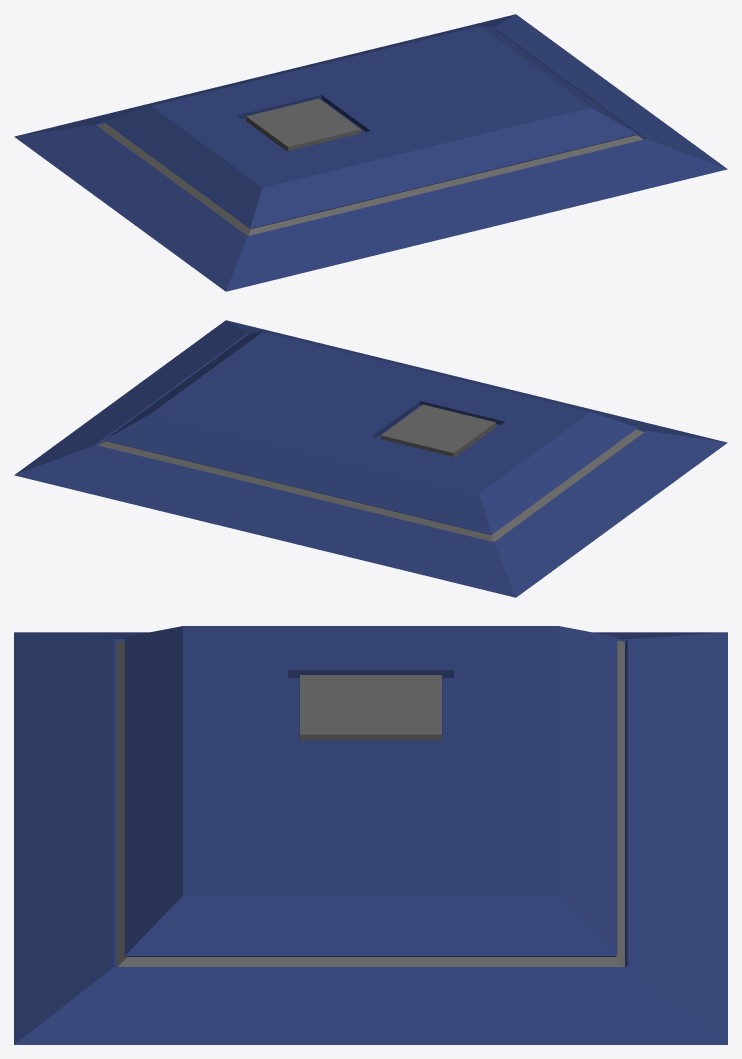
The model's file is Platform.fbx.
3 views of the same model, one above another, from view 1: azimuth 30°, elevation 25°; view 2: azimuth 150°, elevation 25°; view 3: azimuth 270°, elevation 25° (orthographic). The views are drawn at different scales.
Visible parts, largest first — view 1: Base, Pressure_Plate; view 2: Base, Pressure_Plate; view 3: Base, Pressure_Plate.
Part boxes in pixels (x1,y1,x2,y2): Base: (14, 14, 727, 291); Pressure_Plate: (246, 98, 360, 151); Base: (14, 320, 727, 597); Pressure_Plate: (381, 404, 495, 457); Base: (14, 626, 727, 1044); Pressure_Plate: (300, 675, 441, 740).
Size of the model in its own units: 1267 by 112 by 927.
